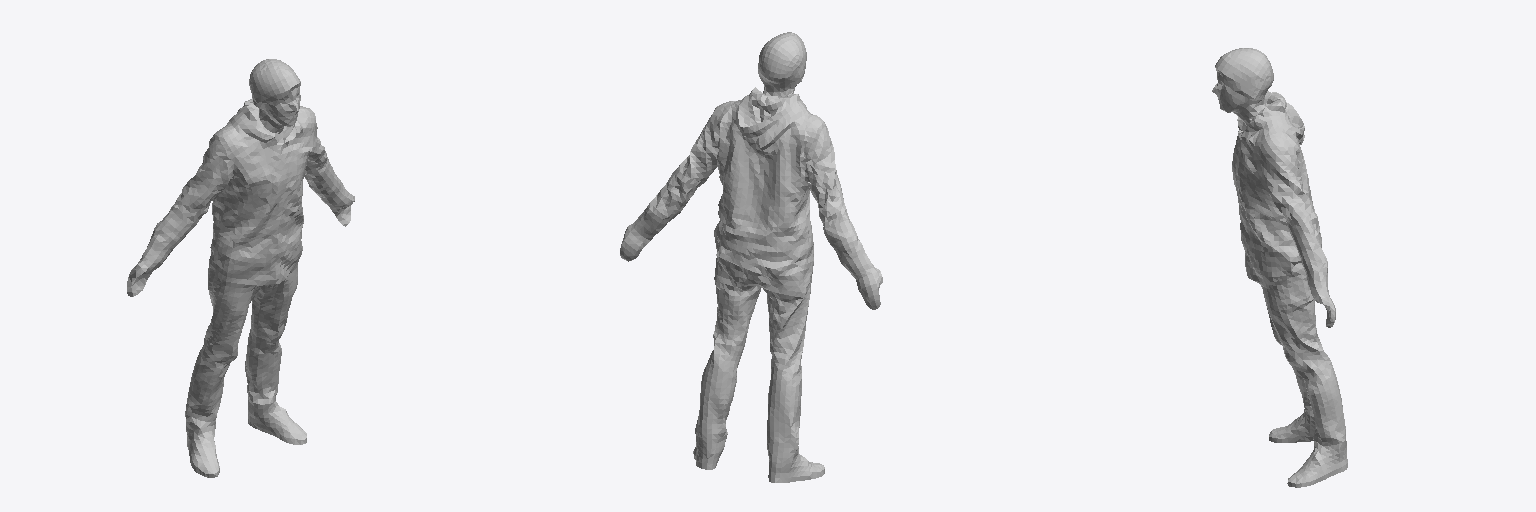
The model's file is Quad.obj.
The picture shows the model from 3 angles: view 1: azimuth 30°, elevation 25°; view 2: azimuth 150°, elevation 25°; view 3: azimuth 270°, elevation 25°; orthographic projection.
Size of the model in its own units: 1.05 by 1.71 by 0.5125.